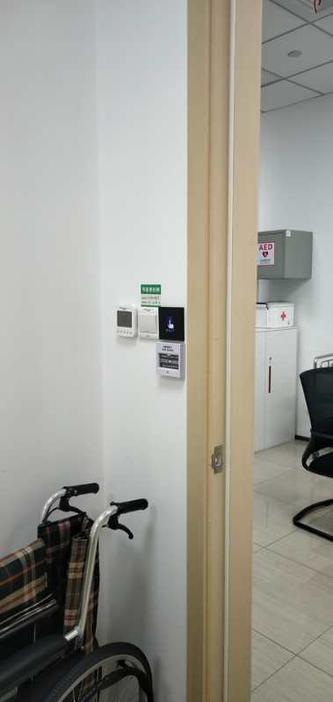switch: (134, 312, 158, 338)
